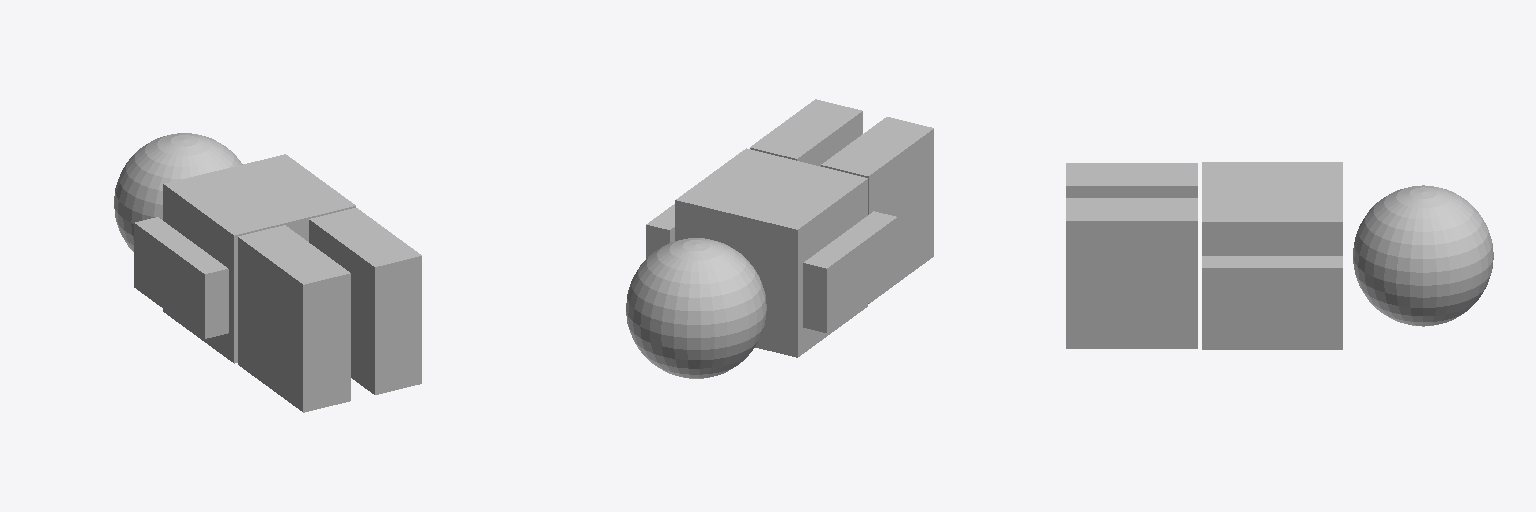
The model's file is sporty_robot_animation_000020.obj.
3 renders of one model, left to right at view 1: azimuth 30°, elevation 25°; view 2: azimuth 150°, elevation 25°; view 3: azimuth 270°, elevation 25°, orthographic.
Parts seen in each view (by area): view 1: Cube.002, Cube.001_Cube.005, Cube, Cube.004, Sphere.001; view 2: Cube, Sphere.001, Cube.002, Cube.004, Cube.001_Cube.005, Cube.003; view 3: Cube.001_Cube.005, Cube, Sphere.001, Cube.003, Cube.002.
Part boxes in pixels (left/top/right/bottom): Cube.002: left=238, top=225, right=350, bottom=412; Cube.001_Cube.005: left=309, top=208, right=421, bottom=394; Cube: left=163, top=154, right=355, bottom=363; Cube.004: left=134, top=217, right=228, bottom=338; Sphere.001: left=114, top=133, right=242, bottom=251; Cube: left=675, top=148, right=867, bottom=357; Sphere.001: left=626, top=238, right=766, bottom=378; Cube.002: left=821, top=117, right=933, bottom=303; Cube.004: left=803, top=211, right=897, bottom=332; Cube.001_Cube.005: left=750, top=99, right=862, bottom=166; Cube.003: left=646, top=204, right=674, bottom=258; Cube.001_Cube.005: left=1066, top=198, right=1197, bottom=348; Cube: left=1202, top=162, right=1342, bottom=349; Sphere.001: left=1353, top=185, right=1493, bottom=326; Cube.003: left=1202, top=256, right=1342, bottom=332; Cube.002: left=1066, top=163, right=1197, bottom=197.
Size of the model in its own units: 0.76 by 0.514 by 1.56.